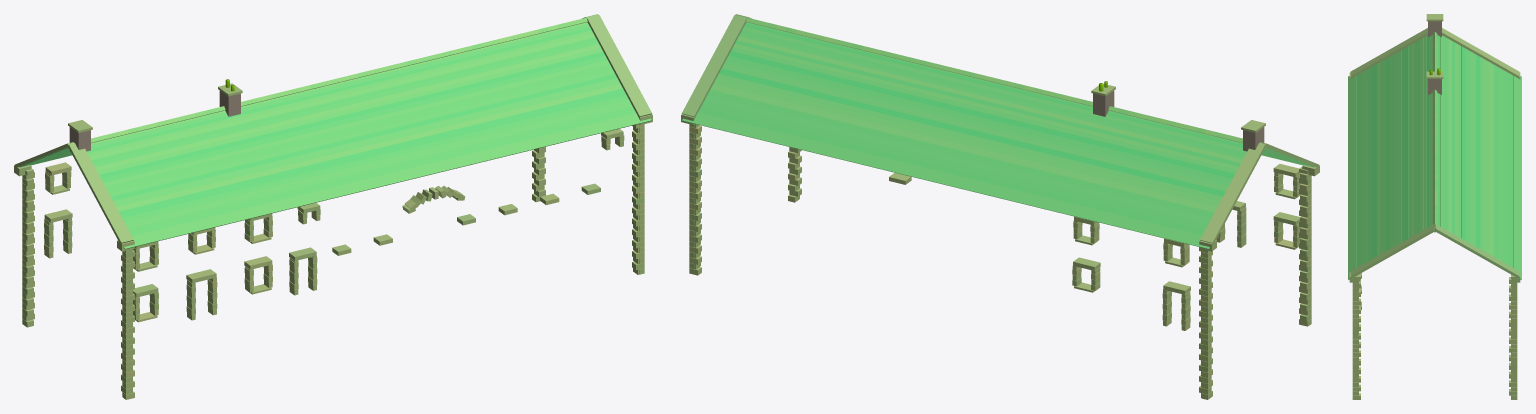
The model's file is SM_Bld_132_Stone.glb.
The picture shows the model from 3 angles, left to right: view 1: azimuth 30°, elevation 25°; view 2: azimuth 150°, elevation 25°; view 3: azimuth 270°, elevation 25°; orthographic projection. The views are drawn at different scales.
Parts seen in each view (by area): view 1: SM_Bld_132_Stone; view 2: SM_Bld_132_Stone; view 3: SM_Bld_132_Stone.
Boxes of the visible parts, box(x1,y1,x2,y2) form: SM_Bld_132_Stone: box(14, 14, 652, 399); SM_Bld_132_Stone: box(681, 14, 1319, 399); SM_Bld_132_Stone: box(1348, 14, 1521, 399).
Size of the model in its own units: 30.63 by 13.33 by 10.99.
